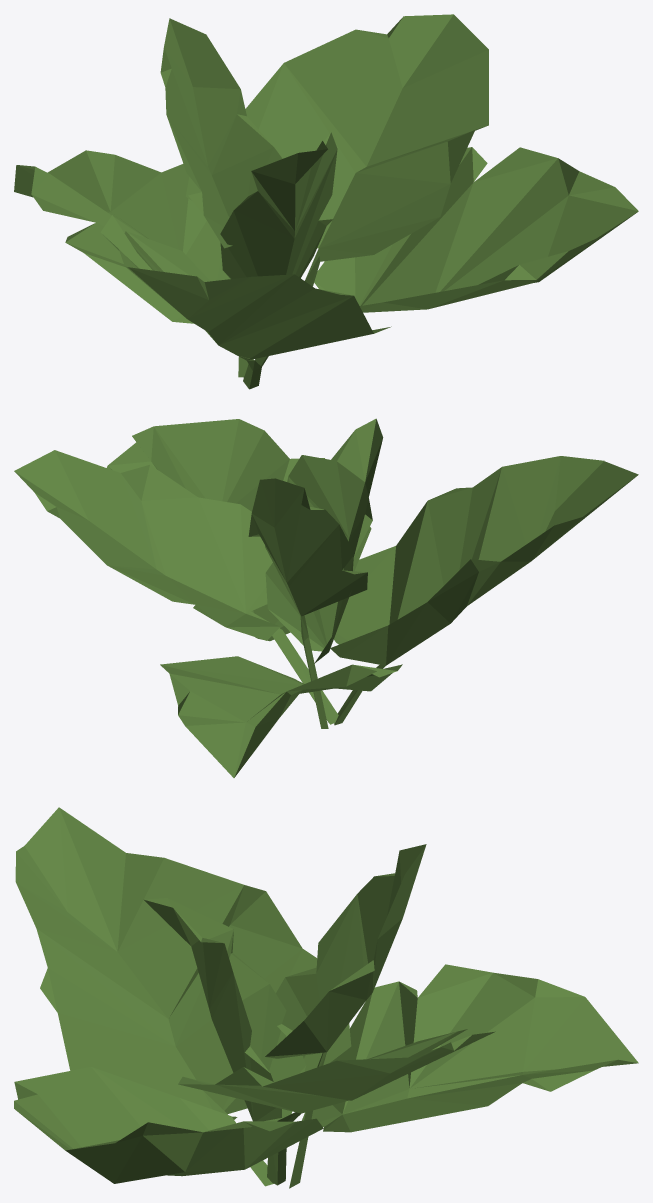
File: SM_Burdock_Mature_A.fbx
3 renders of one model, top to bottom at view 1: azimuth 30°, elevation 25°; view 2: azimuth 150°, elevation 25°; view 3: azimuth 270°, elevation 25°, orthographic. The views are drawn at different scales.
Visible parts, largest first — view 1: burdock-mature-a; view 2: burdock-mature-a; view 3: burdock-mature-a.
Part boxes in pixels (bbox=[...]): burdock-mature-a: bbox=[14, 14, 638, 389]; burdock-mature-a: bbox=[14, 418, 638, 777]; burdock-mature-a: bbox=[14, 807, 638, 1188].
Size of the model in its own units: 1.63 by 0.9575 by 1.61.
